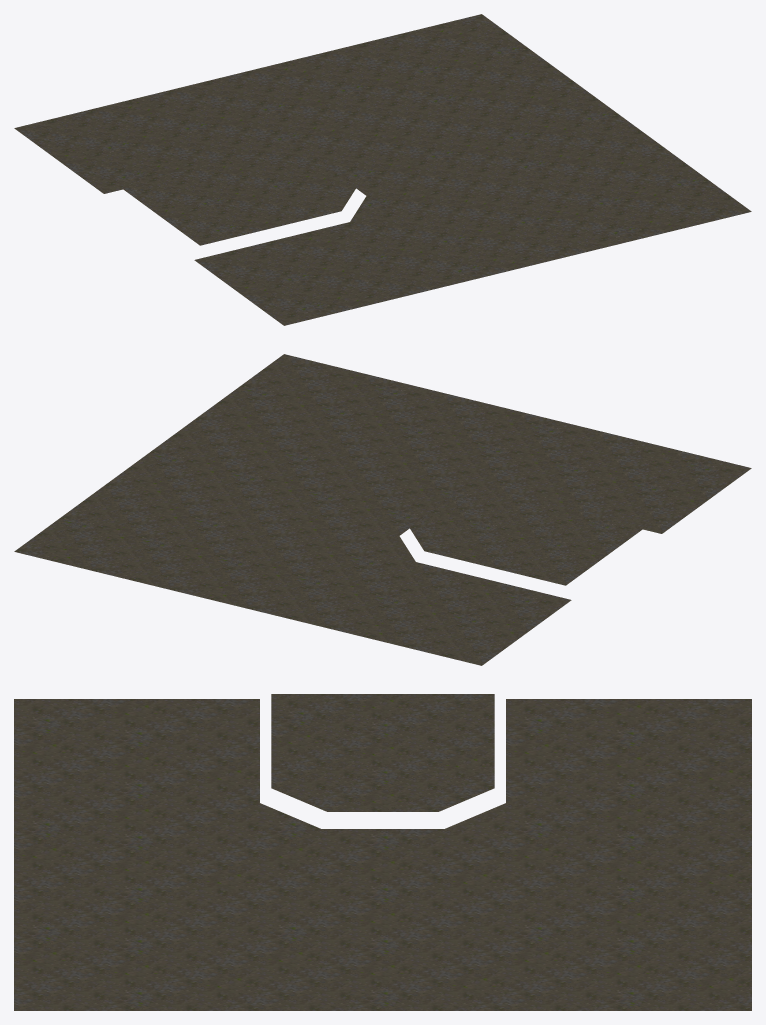
File: oTerrainGroundMap02C.FBX
The picture shows the model from 3 angles, top to bottom: view 1: azimuth 30°, elevation 25°; view 2: azimuth 150°, elevation 25°; view 3: azimuth 270°, elevation 25°; orthographic projection. The views are drawn at different scales.
Parts seen in each view (by area): view 1: oTerrainGroundMap02C; view 2: oTerrainGroundMap02C; view 3: oTerrainGroundMap02C.
Part boxes in pixels (box(x1,y1,x2,y2)): oTerrainGroundMap02C: box(14, 14, 751, 325); oTerrainGroundMap02C: box(14, 354, 751, 665); oTerrainGroundMap02C: box(14, 694, 751, 1010).
Size of the model in its own units: 1127 by 20 by 1127.
